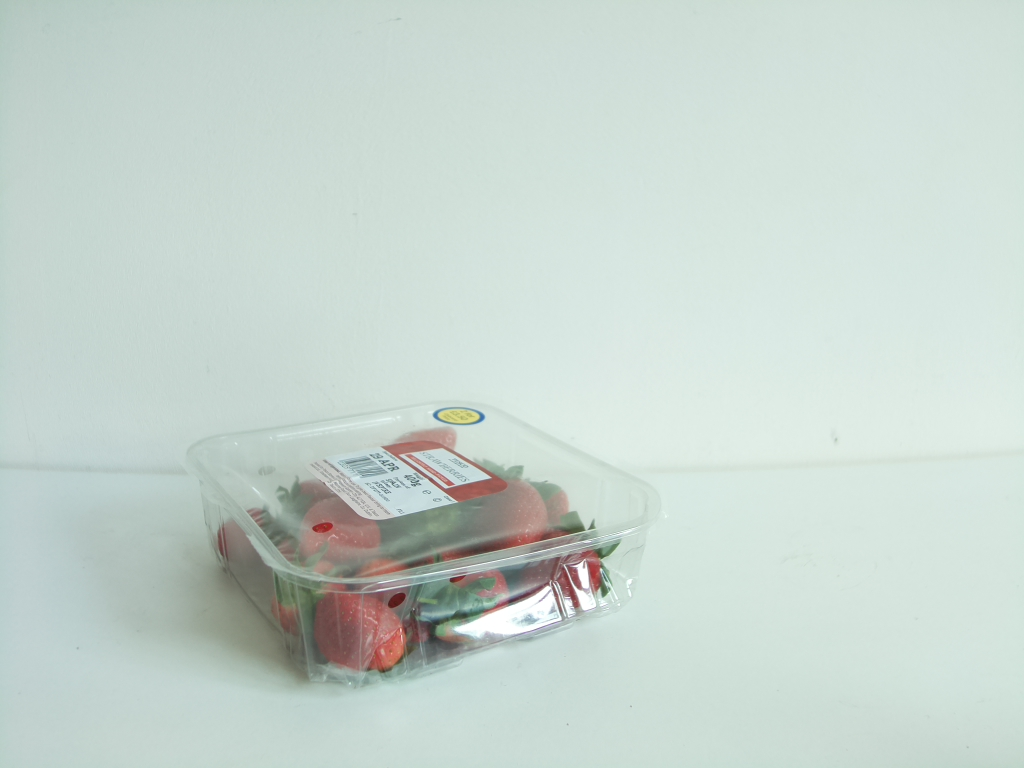soft-fruit: (182, 396, 663, 694)
